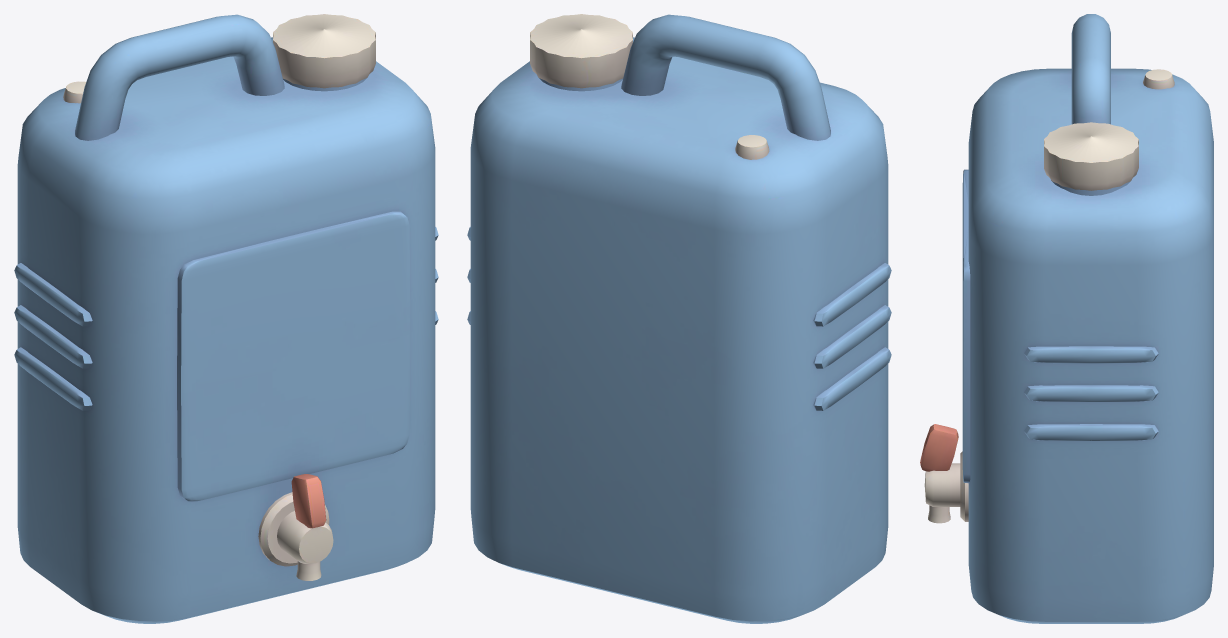
File: jerrycan-10l.glb
3 views of the same model, side by side, from view 1: azimuth 30°, elevation 25°; view 2: azimuth 150°, elevation 25°; view 3: azimuth 270°, elevation 25° (orthographic). The views are drawn at different scales.
Parts seen in each view (by area): view 1: water-jug_body; view 2: water-jug_body; view 3: water-jug_body.
Boxes of the visible parts, left/top/right/bottom form: water-jug_body: left=14, top=14, right=438, bottom=623; water-jug_body: left=467, top=14, right=891, bottom=623; water-jug_body: left=920, top=14, right=1213, bottom=623.
Size of the model in its own units: 0.31 by 0.4456 by 0.2398.
Materials: 1 (1 with a texture image).
